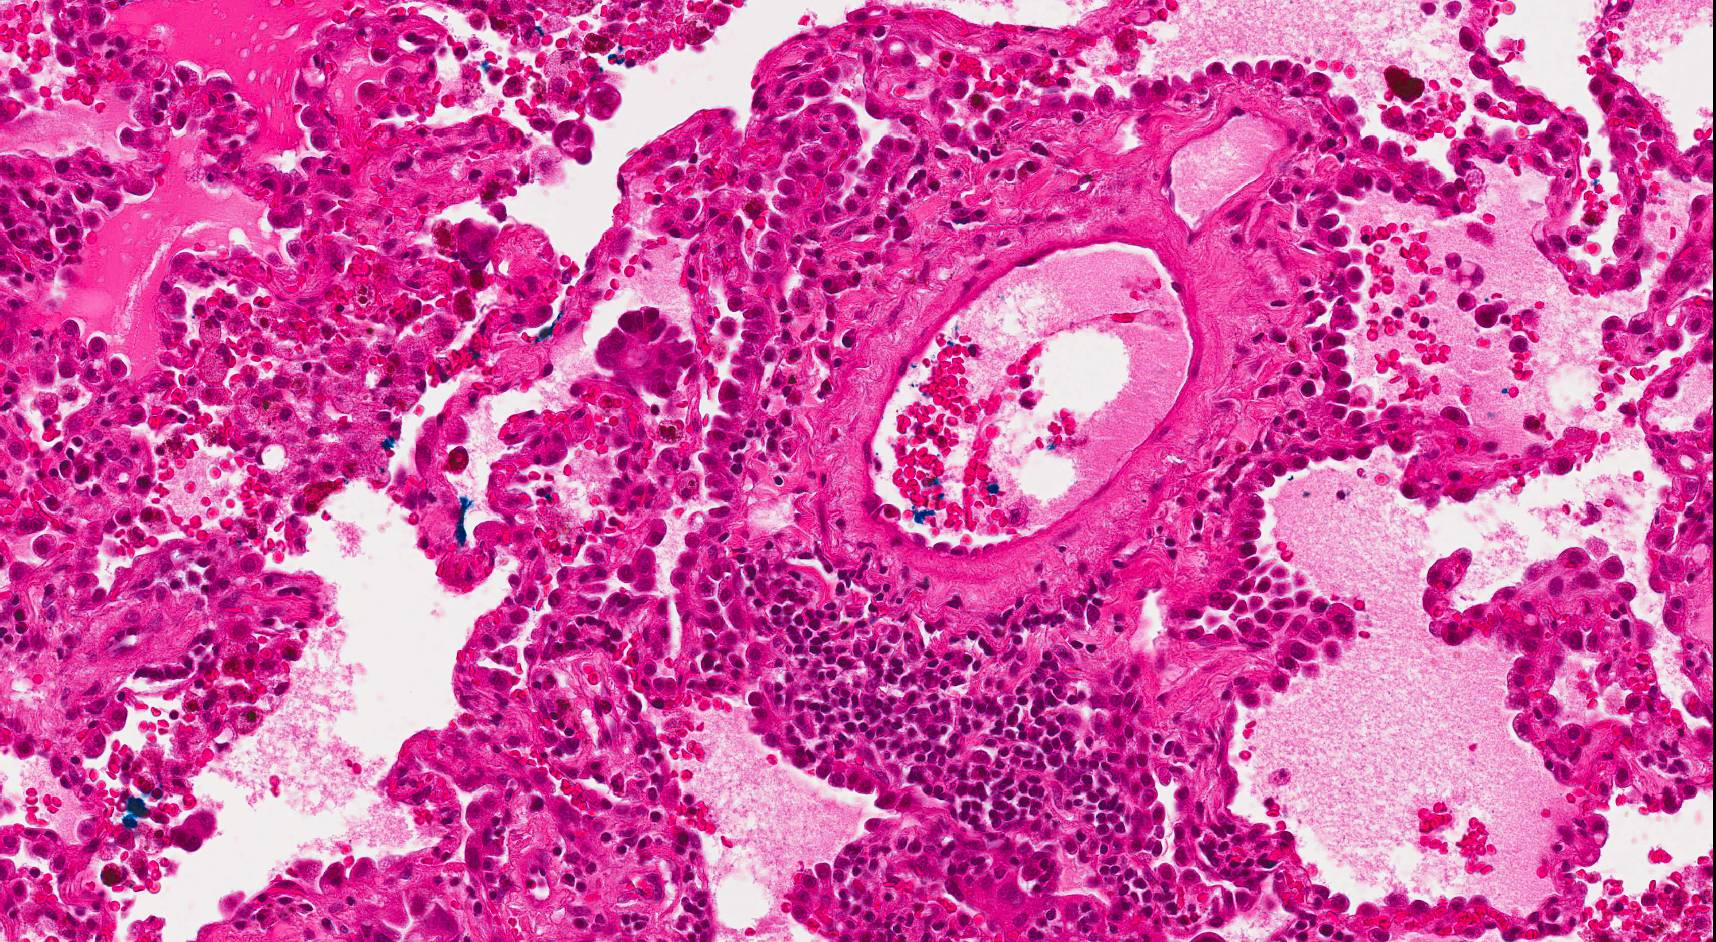stas: (593, 305, 696, 398)
